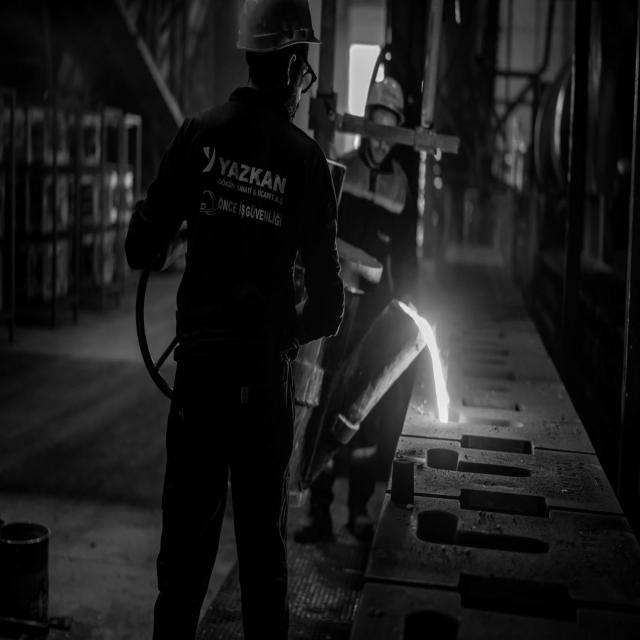construction helmet: (234, 0, 320, 63), (365, 72, 406, 126)
